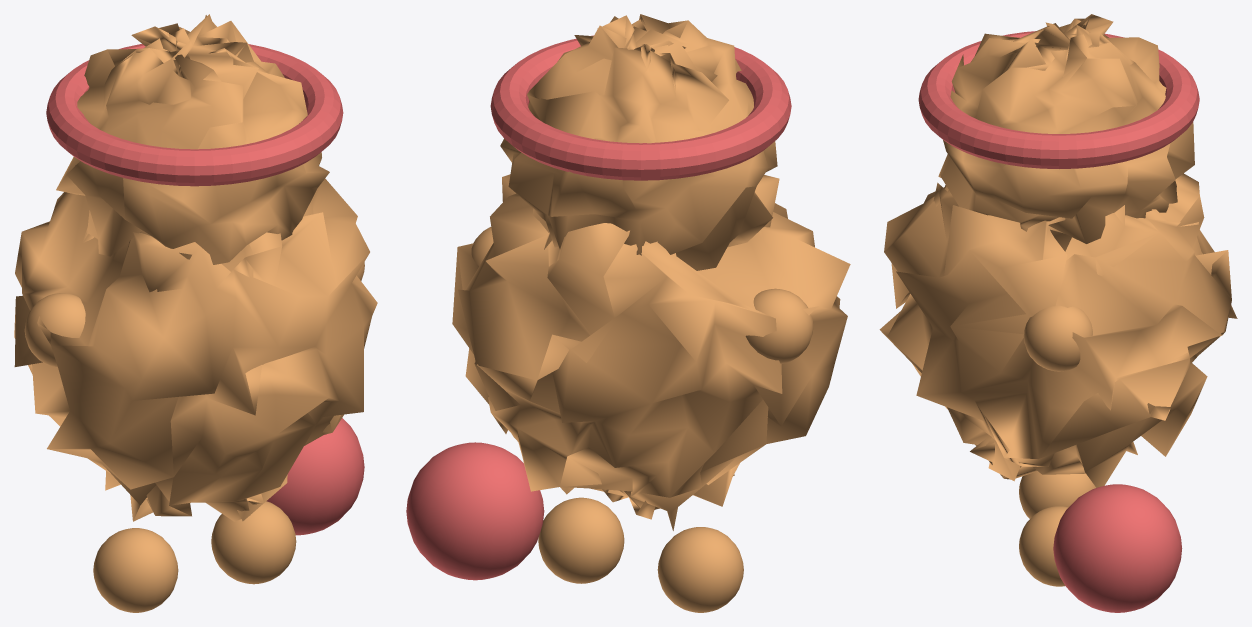
The model's file is clay_basketball_chicken.glb.
3 views of the same model, side by side, from view 1: azimuth 30°, elevation 25°; view 2: azimuth 150°, elevation 25°; view 3: azimuth 270°, elevation 25° (orthographic). The views are drawn at different scales.
Parts seen in each view (by area): view 1: ball; view 2: ball; view 3: ball.
Boxes of the visible parts, x1,y1,x2,y2 form: ball: [14, 14, 377, 612]; ball: [406, 14, 850, 612]; ball: [879, 14, 1237, 612].
Size of the model in its own units: 1.35 by 2.01 by 1.22.
